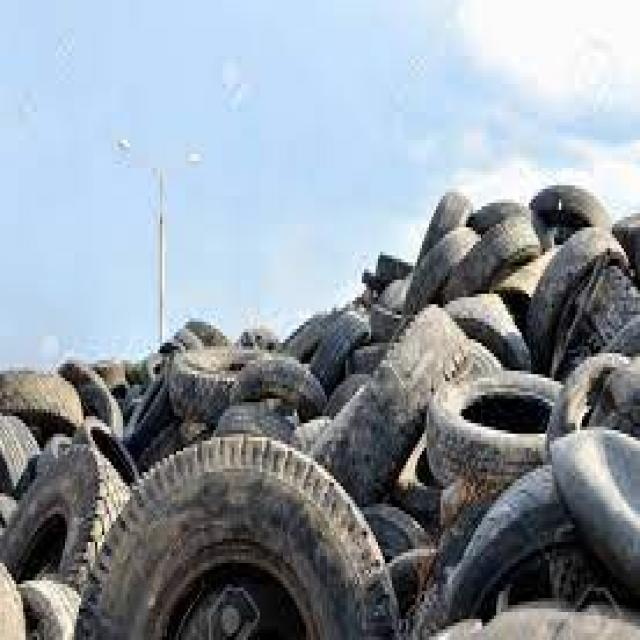Rubber -Non-Biodegradable but Recyclable-: (0, 185, 640, 640)
